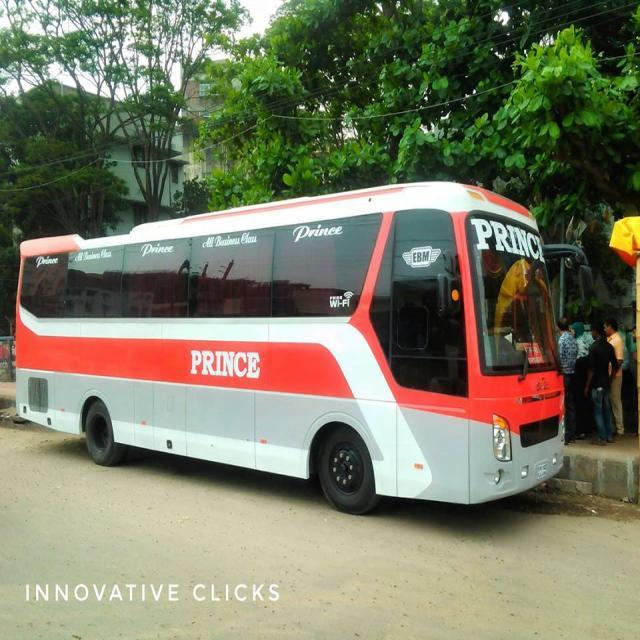bus: (14, 179, 596, 514)
